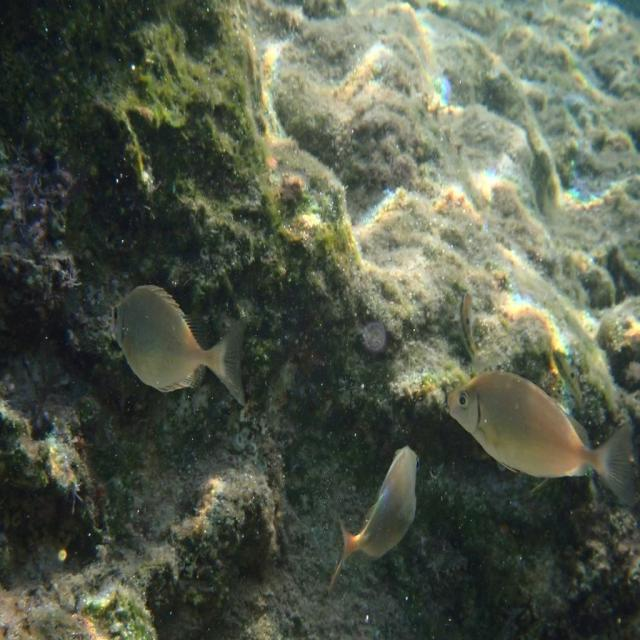Sokar Baligi: (441, 339, 637, 527), (100, 282, 268, 419), (321, 432, 427, 606)
